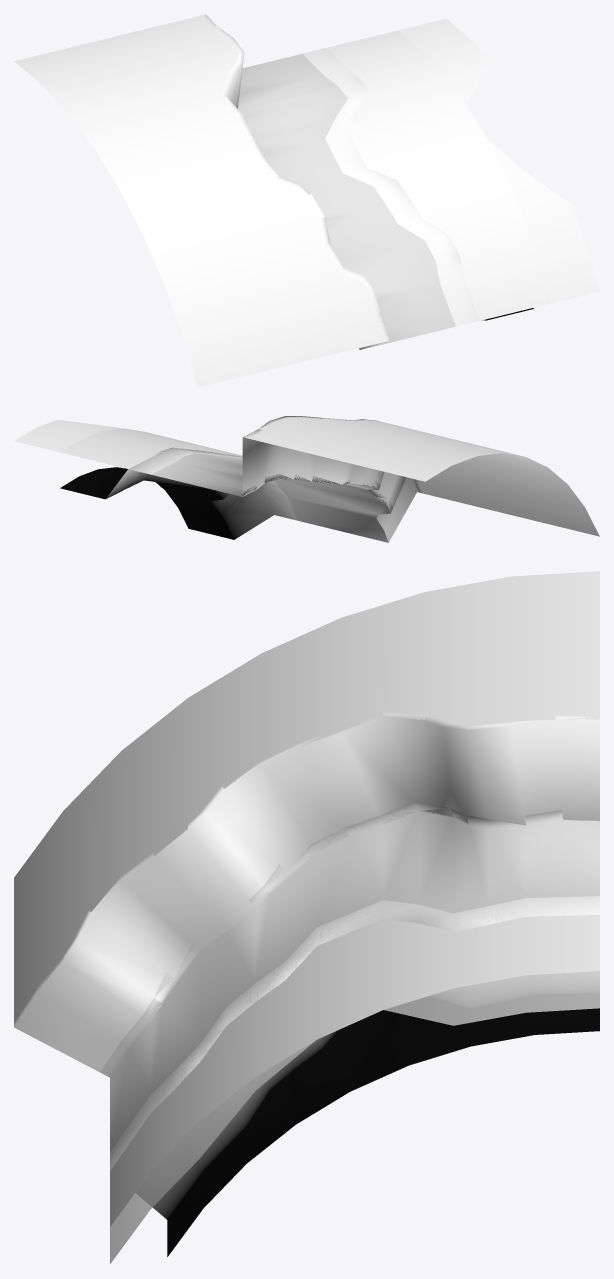
Rendered from grd_Me_0.dae.
3 renders of one model, top to bottom at view 1: azimuth 30°, elevation 25°; view 2: azimuth 150°, elevation 25°; view 3: azimuth 270°, elevation 25°, orthographic. The views are drawn at different scales.
Visible parts, largest first — view 1: grass_3_0, ocean_4_0, beach_0_0, wave_5_0, beach_1_0, cliff_2_0; view 2: grass_3_0, beach_0_0, beach_1_0, cliff_2_0, ocean_4_0, wave_5_0; view 3: grass_3_0, cliff_2_0, beach_0_0, beach_1_0, ocean_4_0, wave_5_0.
Boxes of the visible parts, left/top/right/bottom form: grass_3_0: left=14, top=15, right=389, bottom=387; ocean_4_0: left=326, top=30, right=551, bottom=320; beach_0_0: left=237, top=54, right=455, bottom=349; wave_5_0: left=326, top=18, right=599, bottom=303; beach_1_0: left=302, top=48, right=533, bottom=326; cliff_2_0: left=200, top=14, right=389, bottom=349; grass_3_0: left=243, top=417, right=599, bottom=536; beach_0_0: left=151, top=453, right=392, bottom=542; beach_1_0: left=60, top=447, right=296, bottom=539; cliff_2_0: left=242, top=416, right=422, bottom=542; ocean_4_0: left=60, top=428, right=294, bottom=514; wave_5_0: left=14, top=419, right=239, bottom=487; grass_3_0: left=14, top=571, right=599, bottom=1022; cliff_2_0: left=14, top=711, right=599, bottom=1072; beach_0_0: left=100, top=801, right=599, bottom=1151; beach_1_0: left=110, top=896, right=599, bottom=1256; ocean_4_0: left=110, top=898, right=599, bottom=1226; wave_5_0: left=110, top=902, right=599, bottom=1263.
Size of the model in its own units: 576 by 308 by 423.
6 materials, 1 textured.
